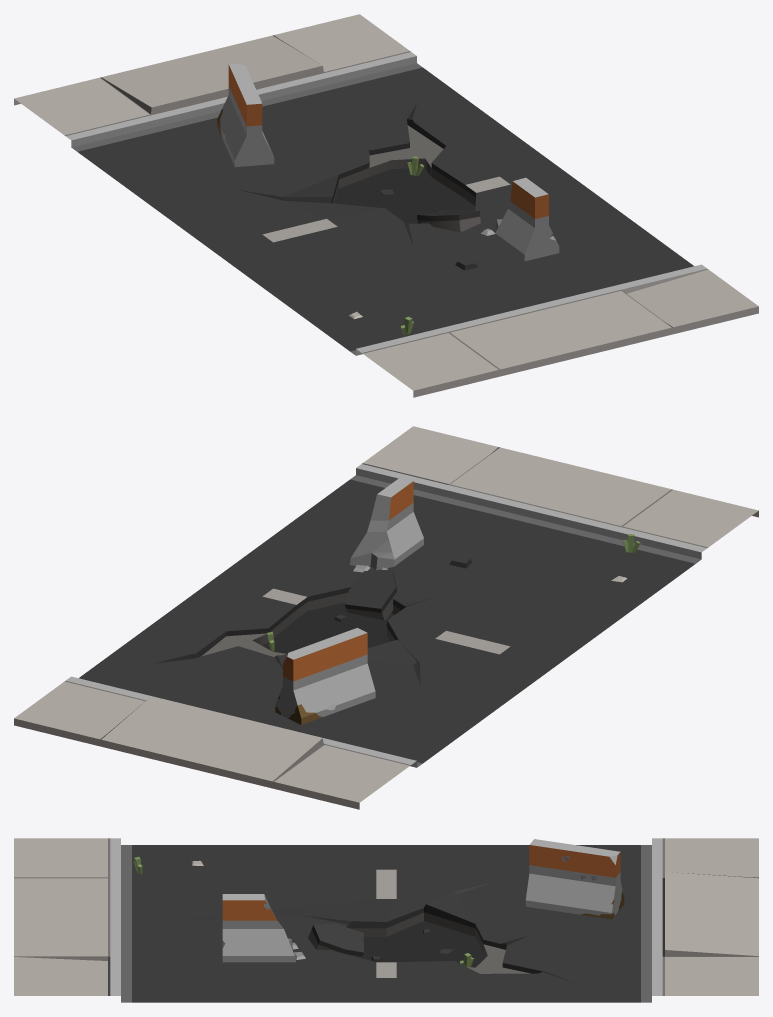
The model's file is SA_Env_RoadStraight_Damaged_04.fbx.
3 views of the same model, one above another, from view 1: azimuth 30°, elevation 25°; view 2: azimuth 150°, elevation 25°; view 3: azimuth 270°, elevation 25° (orthographic). The views are drawn at different scales.
Parts seen in each view (by area): view 1: SA_Env_RoadStraight_Damaged_04; view 2: SA_Env_RoadStraight_Damaged_04; view 3: SA_Env_RoadStraight_Damaged_04.
Boxes of the visible parts, <box> form: SA_Env_RoadStraight_Damaged_04: <box>14,14,758,397</box>; SA_Env_RoadStraight_Damaged_04: <box>14,426,758,809</box>; SA_Env_RoadStraight_Damaged_04: <box>14,838,758,1002</box>.
Size of the model in its own units: 10 by 2.23 by 20.
Materials: 1 (1 with a texture image).
